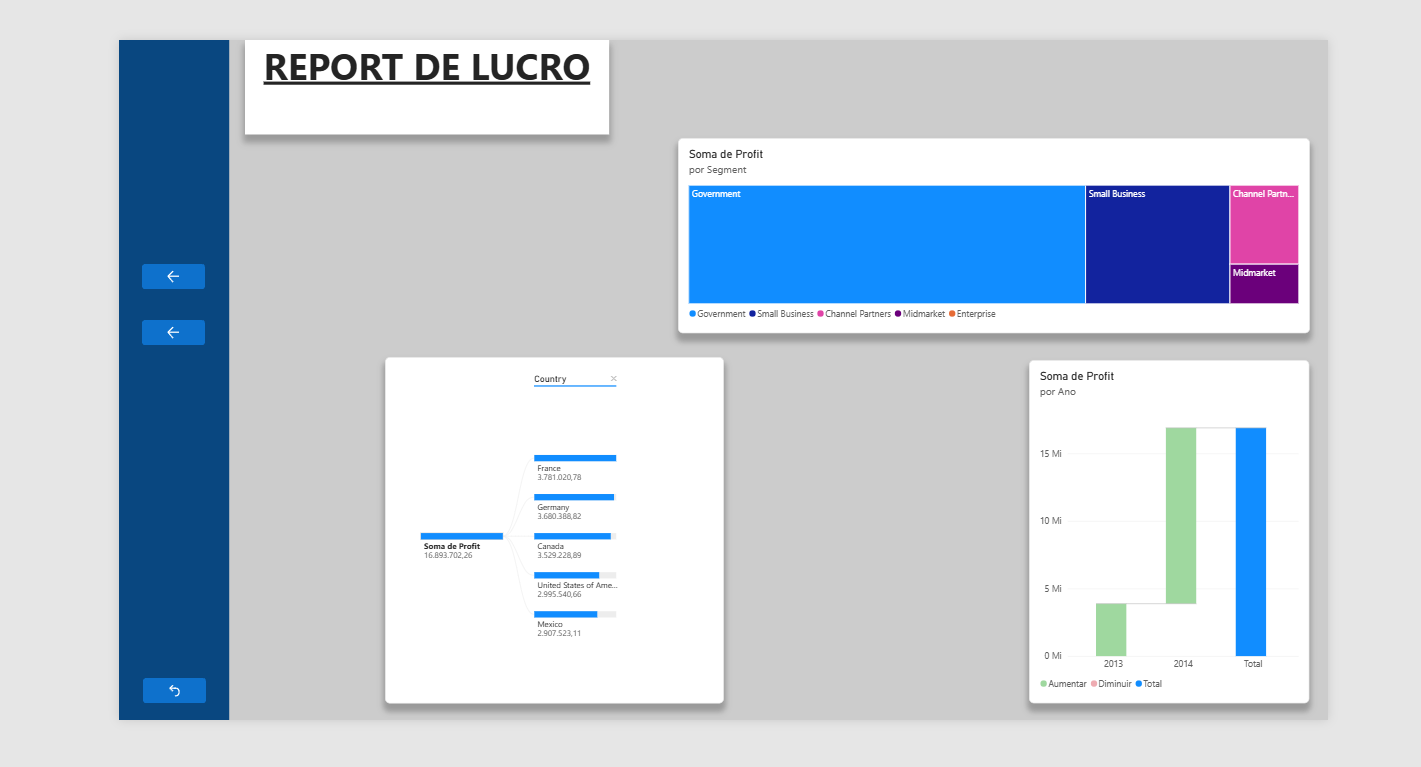

The page's visual inventory and layout, read from the dashboard file:
{"tool":"powerbi","page":{"name":"Página 2","canvas":[1920,1080],"ordinal":1},"visuals":[{"type":"shape","box":[0,0,174.9,1080.7],"z":0},{"type":"actionButton","box":[37,355.6,100,40],"z":1000},{"type":"actionButton","box":[37,444.4,100,40],"z":2000},{"type":"decompositionTreeVisual","fields":{"Analyze":["Sum(financials.Profit)"],"ExplainBy":["financials.Country"]},"box":[422.5,502.5,537.5,550],"z":3000},{"type":"textbox","box":[200,0,577.5,150],"z":4000},{"type":"treemap","fields":{"Group":["financials.Segment"],"Values":["Sum(financials.Profit)"]},"box":[887.5,155,1002.5,310],"z":5000},{"type":"waterfallChart","fields":{"Category":["financials.Date.Variation.Hierarquia de datas.Ano","financials.Date.Variation.Hierarquia de datas.Trimestre","financials.Date.Variation.Hierarquia de datas.Mês","financials.Date.Variation.Hierarquia de datas.Dia"],"Y":["Sum(financials.Profit)"]},"box":[1445,507.5,445,545],"z":6000},{"type":"actionButton","box":[37.5,1012.5,100,40],"z":6001}]}

Visuals, with their boxes on the page's 1920x1080 design canvas (x1, y1, x2, y2). These are canvas units, not pixel positions in the 1421x767 screenshot, which may show the page scaled, cropped or inside an application window:
shape: (0,0,175,1081)
actionButton: (37,356,137,396)
actionButton: (37,444,137,484)
decompositionTreeVisual - Sum(financials.Profit) x financials.Country: (422,502,960,1052)
textbox: (200,0,778,150)
treemap - financials.Segment x Sum(financials.Profit): (888,155,1890,465)
waterfallChart - financials.Date.Variation.Hierarquia de datas.Ano x financials.Date.Variation.Hierarquia de datas.Trimestre: (1445,508,1890,1052)
actionButton: (38,1012,138,1052)
